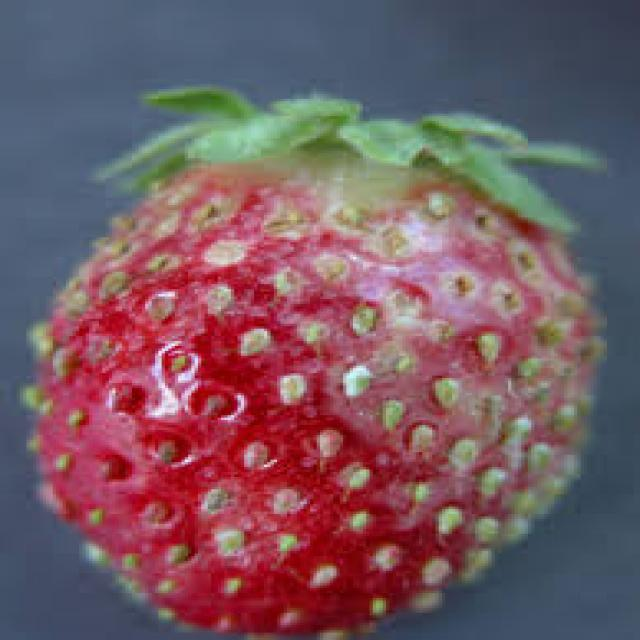Oído: (30, 95, 610, 632)
